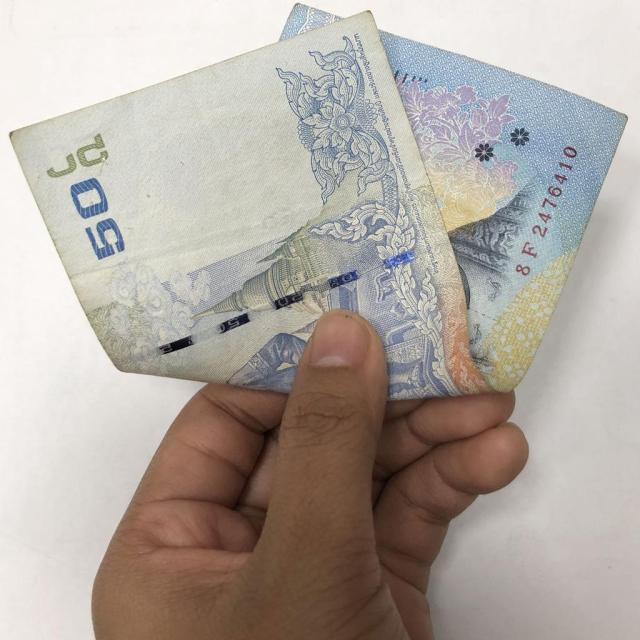THAI50: (7, 4, 629, 406)
